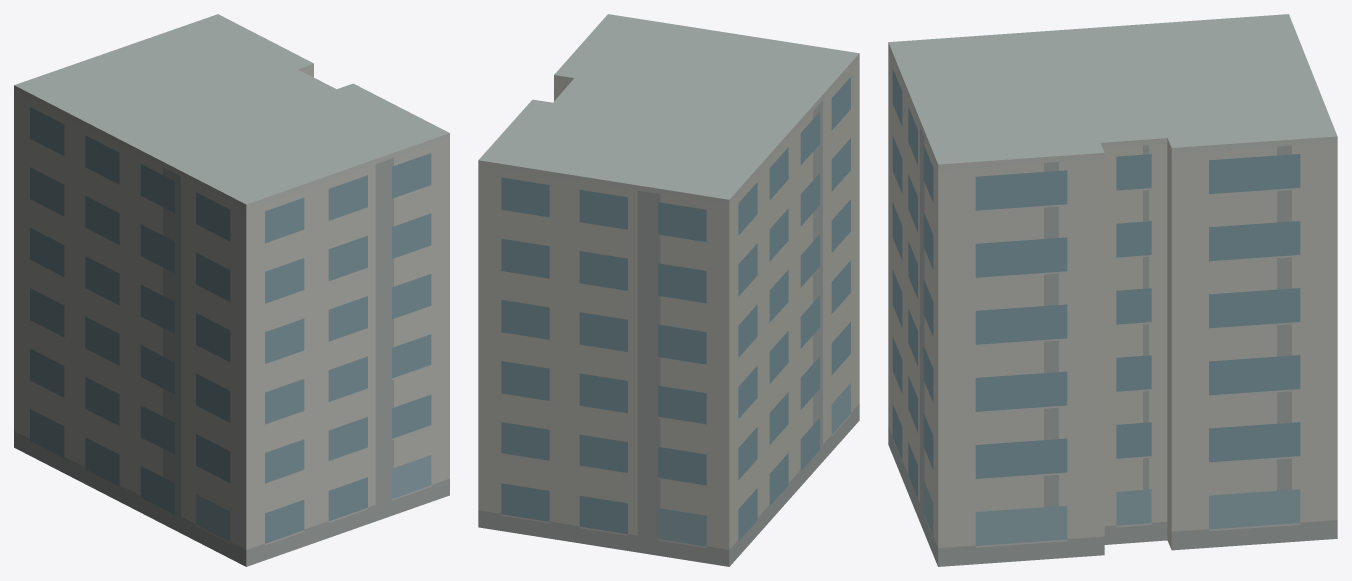
File: survey-upis-32807728.glb
3 views of the same model, side by side, from view 1: azimuth 30°, elevation 25°; view 2: azimuth 150°, elevation 25°; view 3: azimuth 270°, elevation 25° (orthographic). The views are drawn at different scales.
Parts seen in each view (by area): view 1: survey-upis-32807728.tmp; view 2: survey-upis-32807728.tmp; view 3: survey-upis-32807728.tmp.
Part boxes in pixels (x1,y1,x2,y2): survey-upis-32807728.tmp: [14, 14, 449, 566]; survey-upis-32807728.tmp: [478, 14, 859, 566]; survey-upis-32807728.tmp: [888, 14, 1337, 566].
Bounding box in the file's own units: 13.41 × 16.7 × 16.91.
